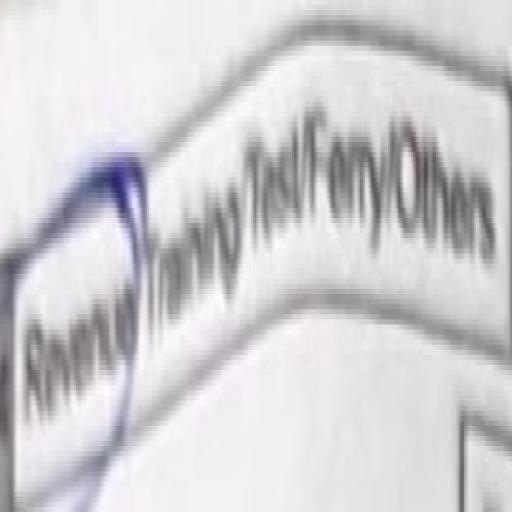check: (2, 170, 140, 505)
